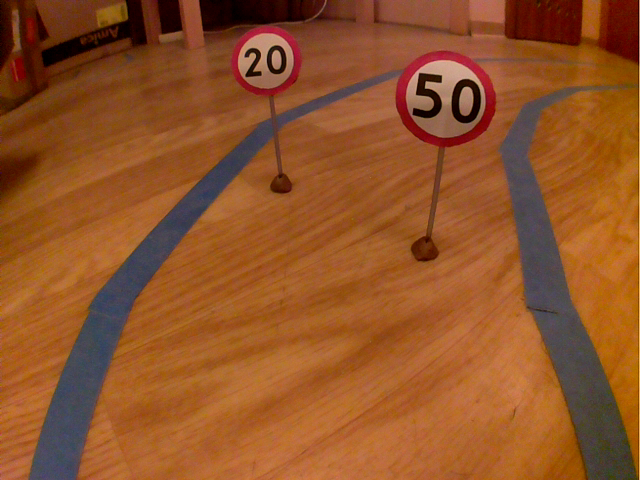Ograniczenie 20: (227, 22, 306, 101)
Ograniczenie 50: (390, 45, 502, 155)
